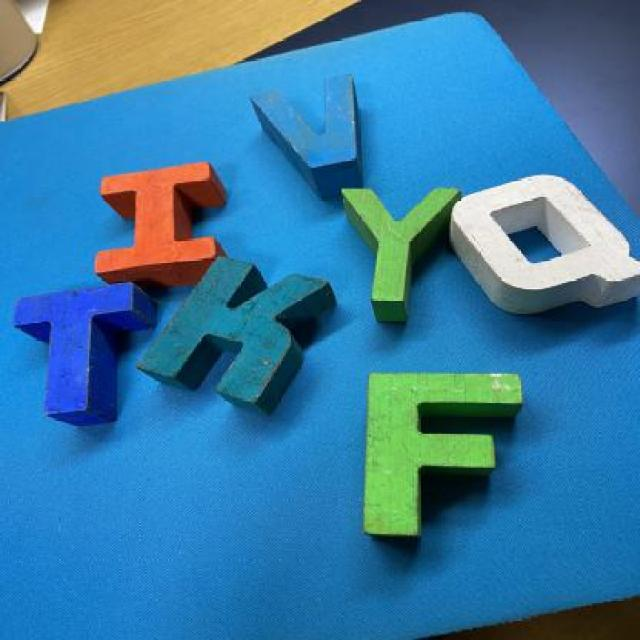F: (366, 364, 516, 542)
I: (105, 155, 222, 279)
K: (134, 261, 328, 413)
Q: (446, 172, 637, 300)
T: (25, 283, 146, 428)
V: (240, 69, 374, 176)
Y: (334, 186, 464, 322)
